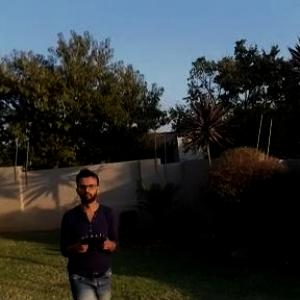follow: (58, 161, 126, 299)
